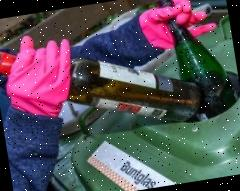glass: (0, 16, 209, 150), (154, 0, 240, 124)
